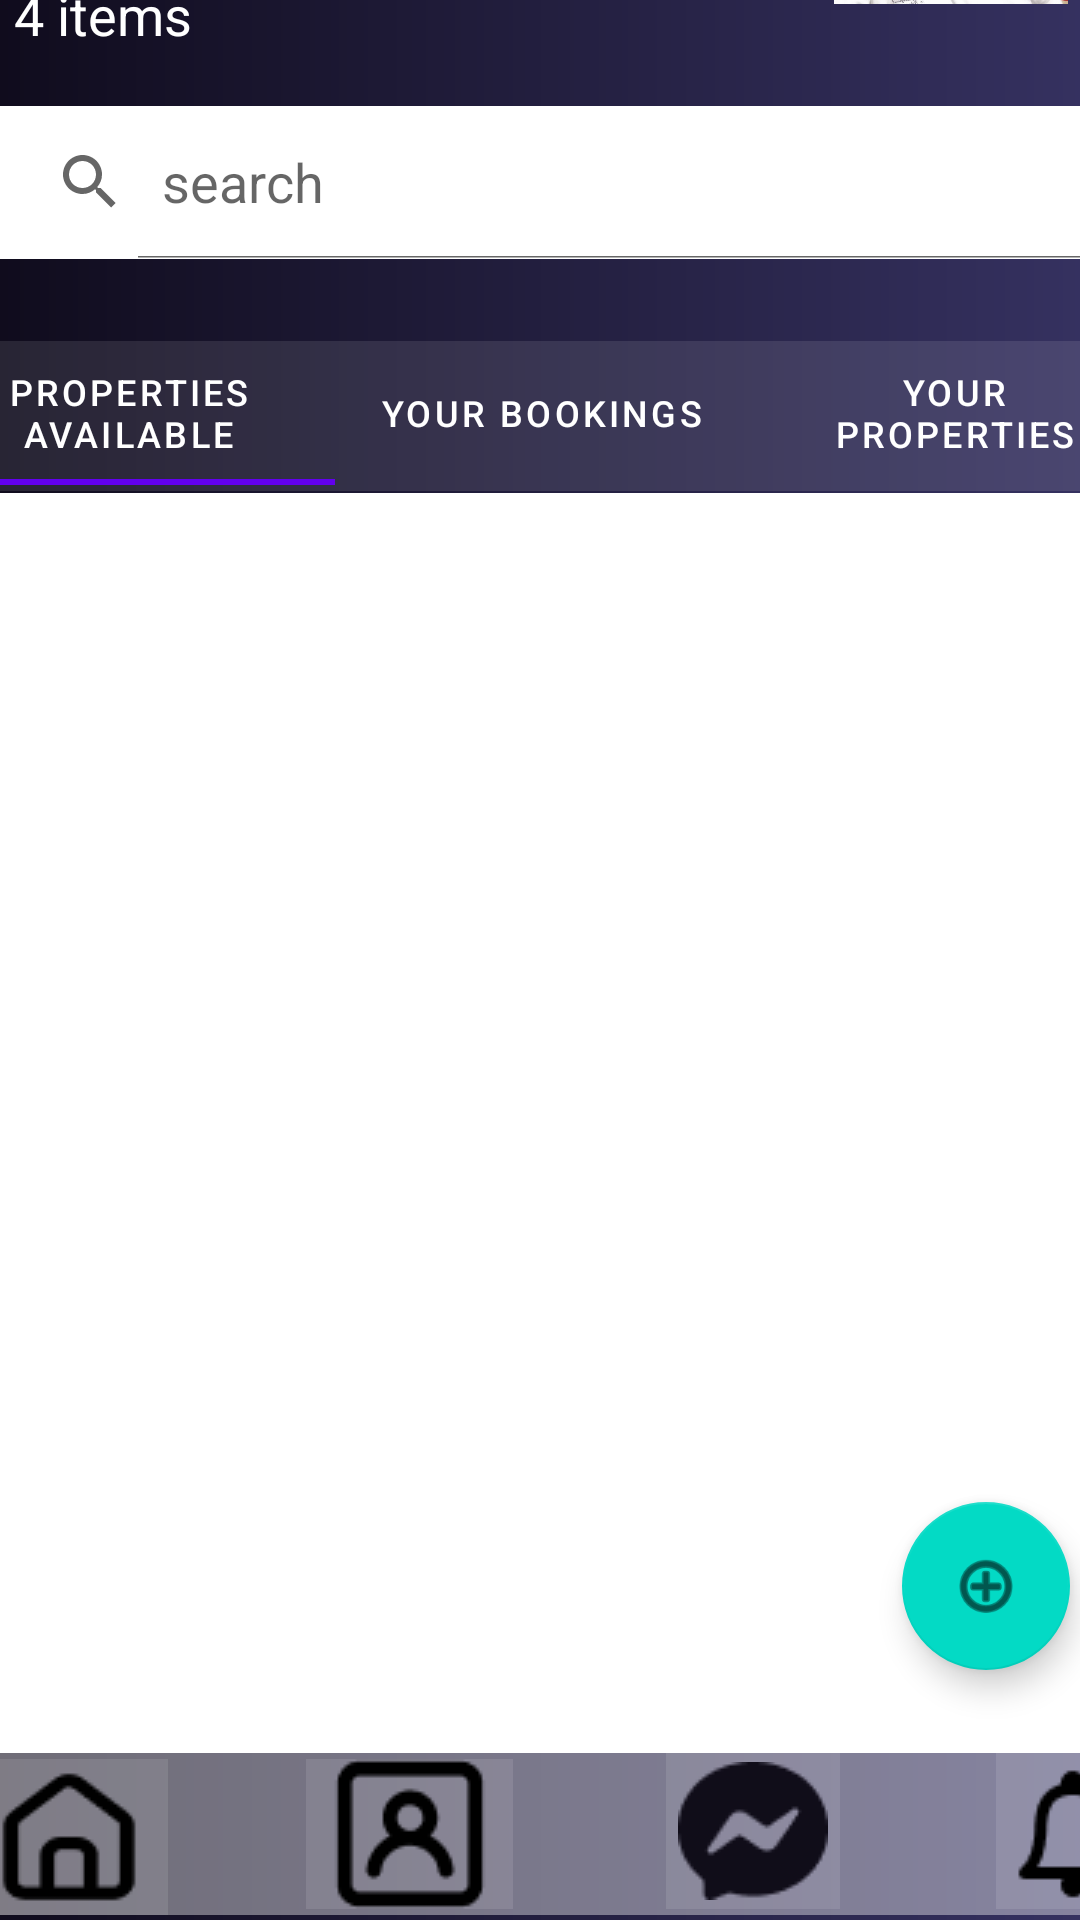

Where icons sit on this 1080x1920 app screen, as (x1,y1,x2,y2):
add: (902,1502,1070,1670)
profile: (337,1761,483,1907)
